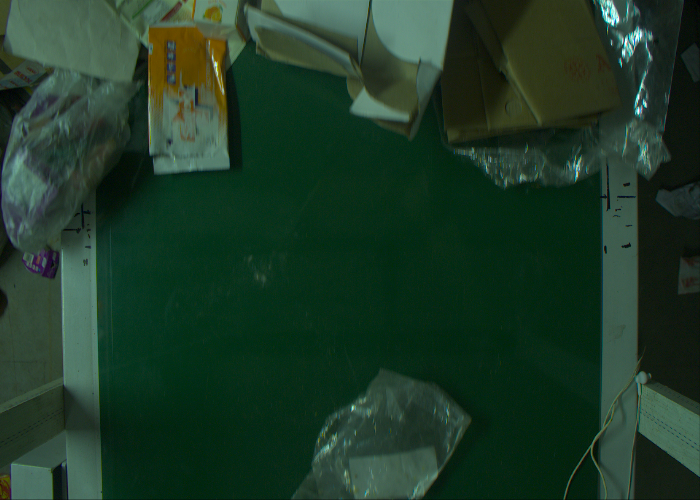hm_ldpe: (271, 364, 473, 498)
pet_bottle: (461, 126, 628, 194)
pp_w: (141, 12, 243, 176)
